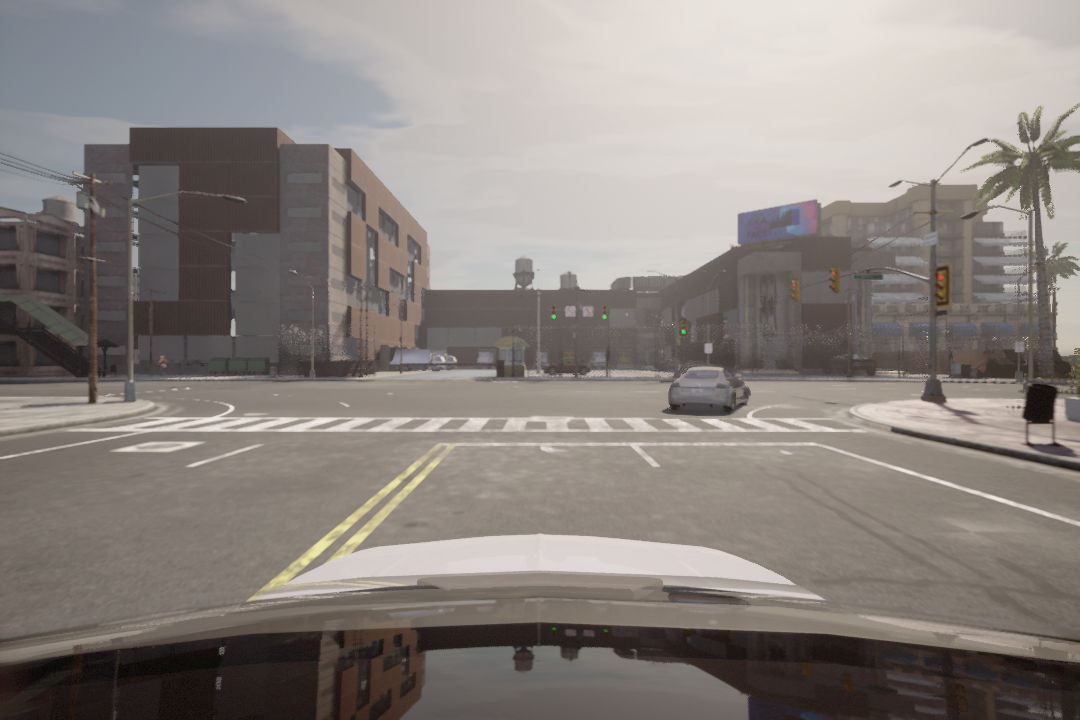TrafficLight: (826, 267, 840, 293), (791, 278, 801, 302), (679, 318, 687, 337), (550, 306, 558, 322), (601, 303, 607, 321)
walkside: (86, 408, 871, 441)
